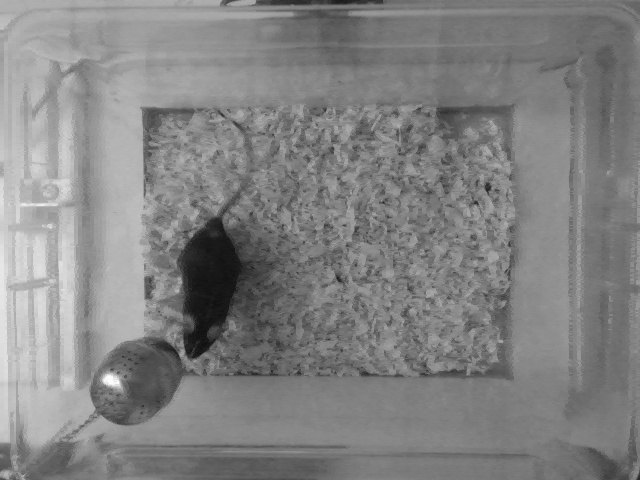mice: (179, 113, 257, 362)
